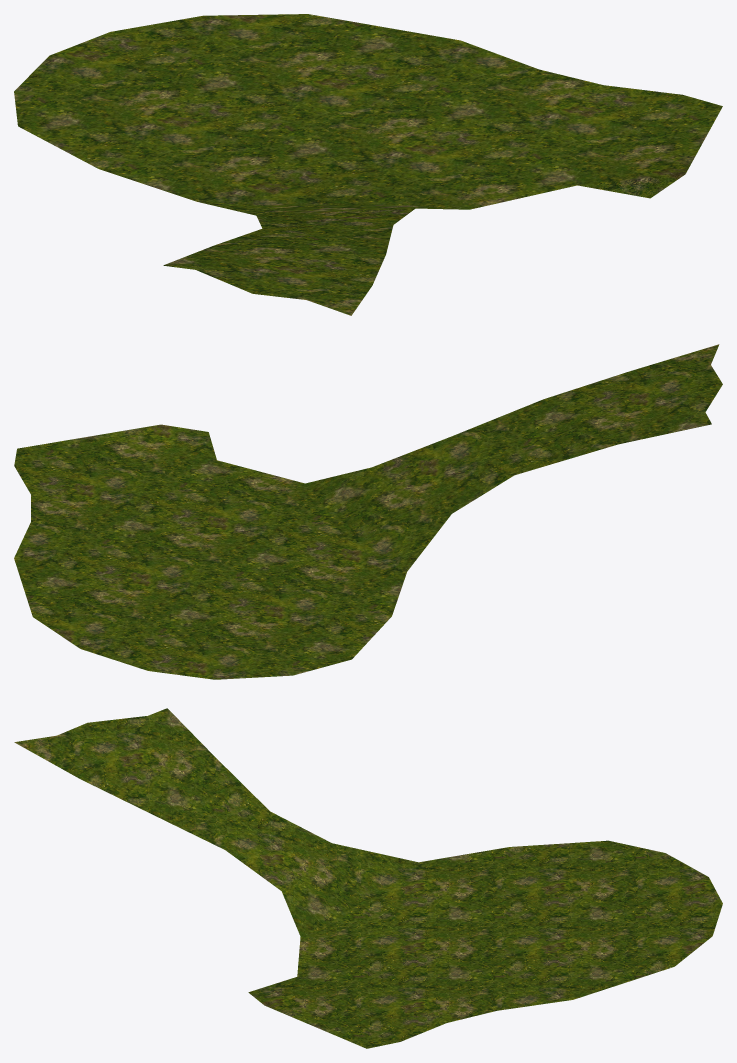
The model's file is OVERHILL_A_01_LINE60.fbx.
3 renders of one model, top to bottom at view 1: azimuth 30°, elevation 25°; view 2: azimuth 150°, elevation 25°; view 3: azimuth 270°, elevation 25°, orthographic. The views are drawn at different scales.
Parts seen in each view (by area): view 1: OVERHILL_A_01_LINE60; view 2: OVERHILL_A_01_LINE60; view 3: OVERHILL_A_01_LINE60.
Boxes of the visible parts, <box> form: OVERHILL_A_01_LINE60: <box>14,14,722,315</box>; OVERHILL_A_01_LINE60: <box>14,344,722,679</box>; OVERHILL_A_01_LINE60: <box>14,708,722,1048</box>.
Size of the model in its own units: 87778 by 12500 by 100767.
1 material, 1 textured.
